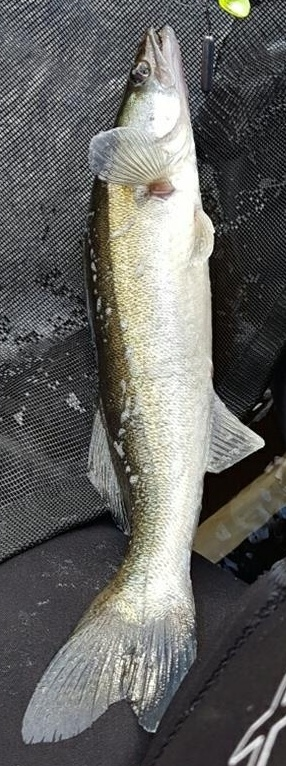Sander lucioperca: (20, 20, 266, 746)
